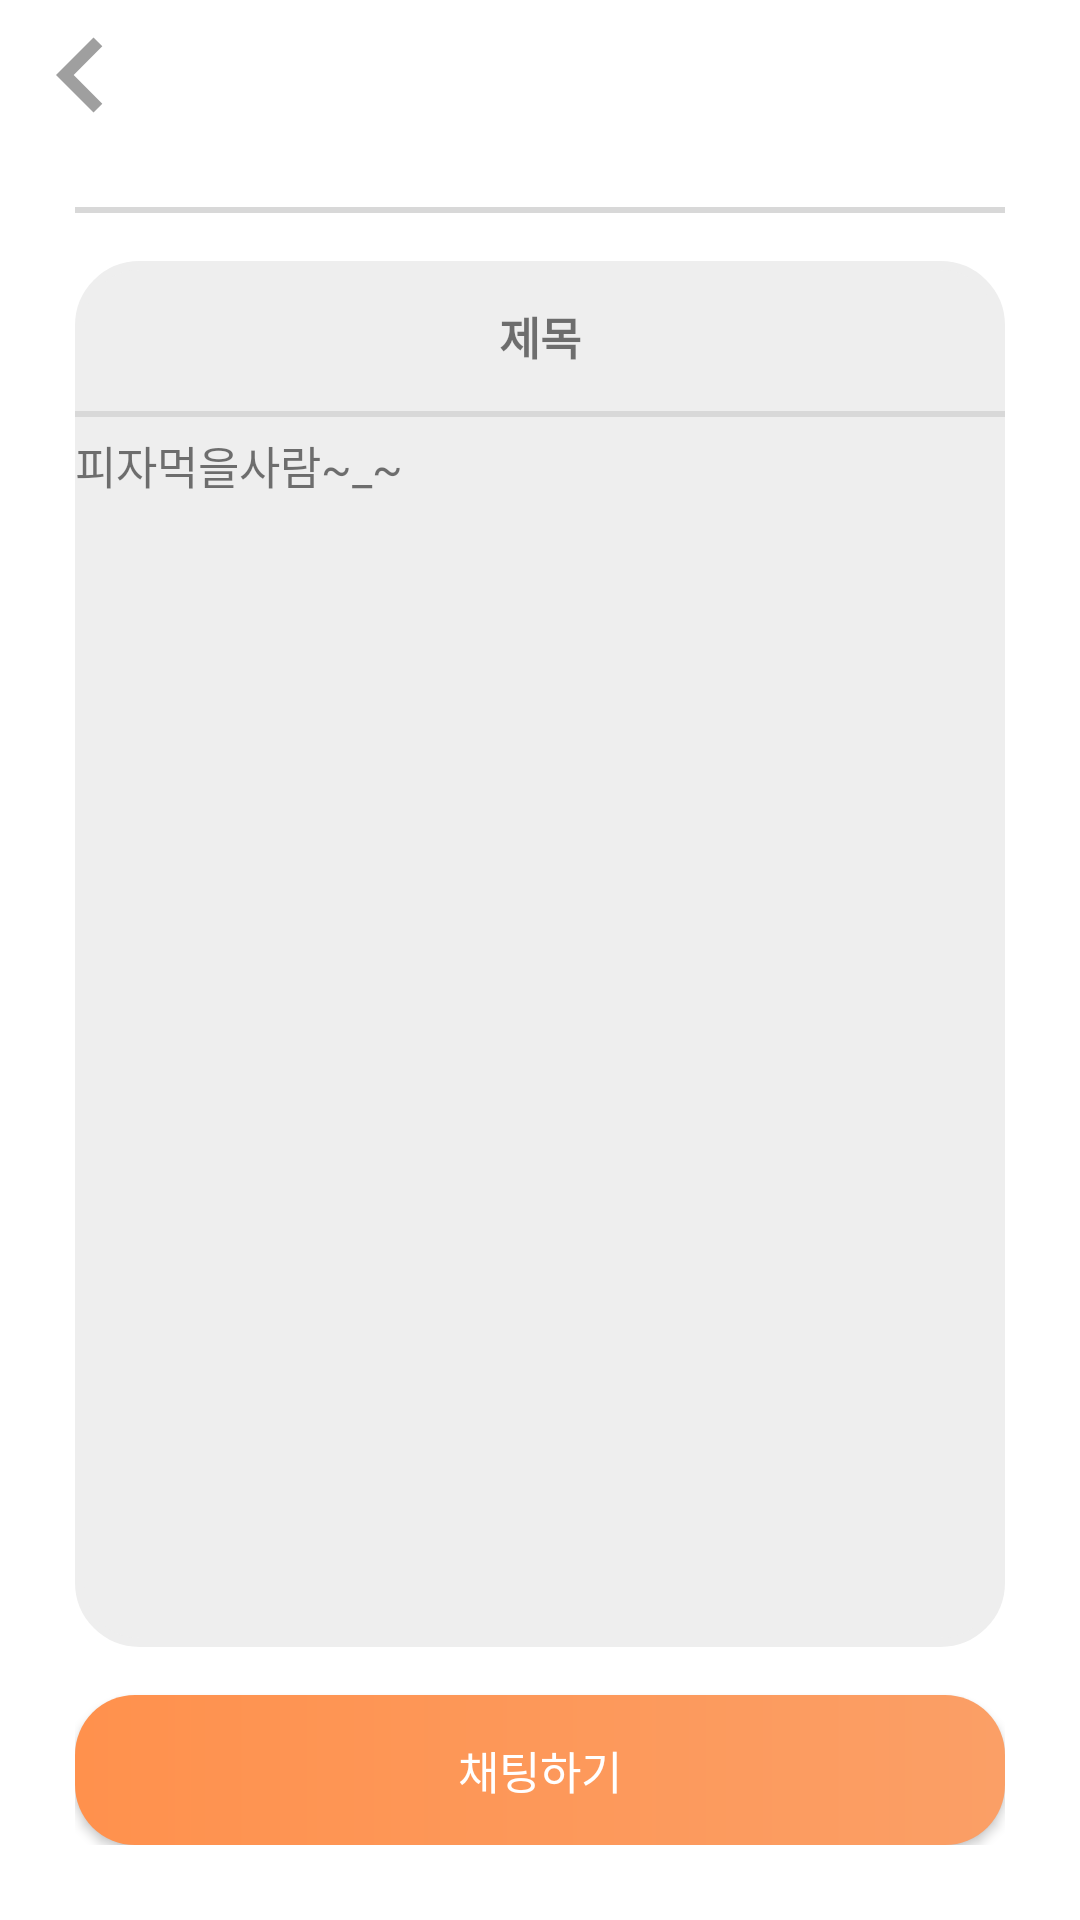

Point at icon controls on the screen. Image size 1080px×1920px, points as [x,y].
back: [79,75]
